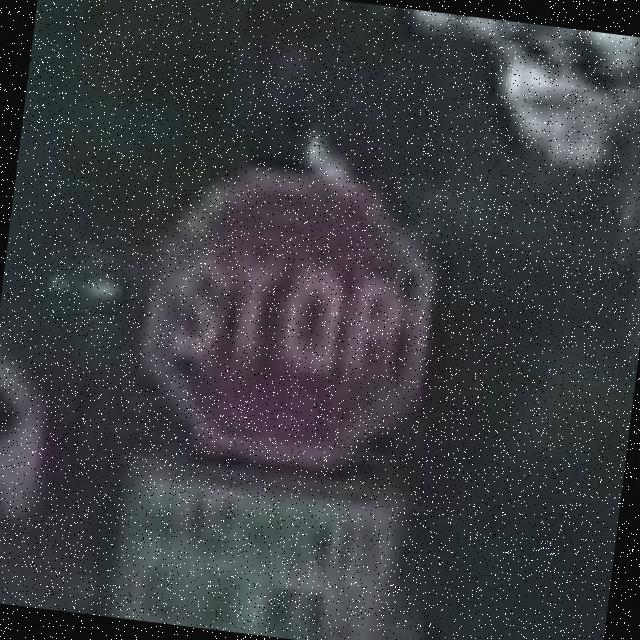Stop: (137, 162, 444, 476)
